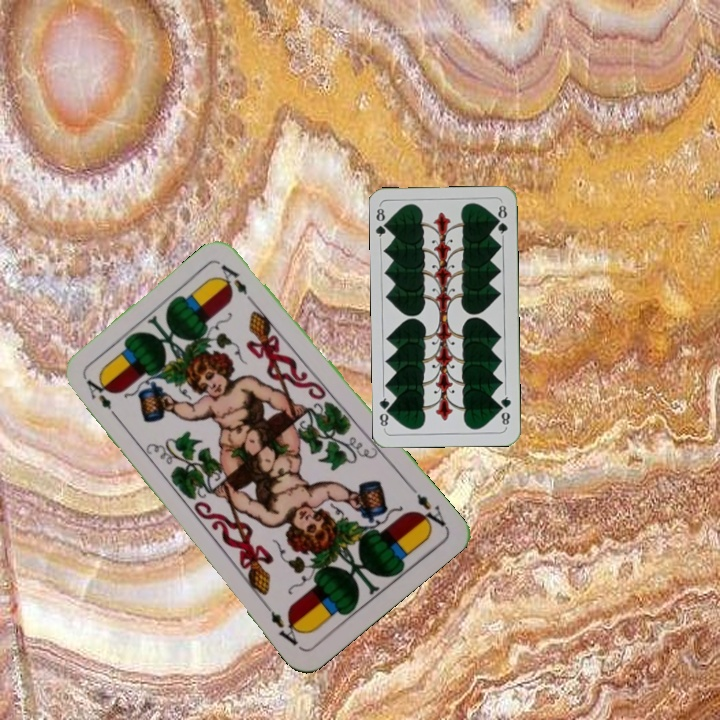EA: (405, 482, 450, 534), (82, 375, 124, 424)
G8: (372, 204, 392, 243), (496, 389, 514, 430)
